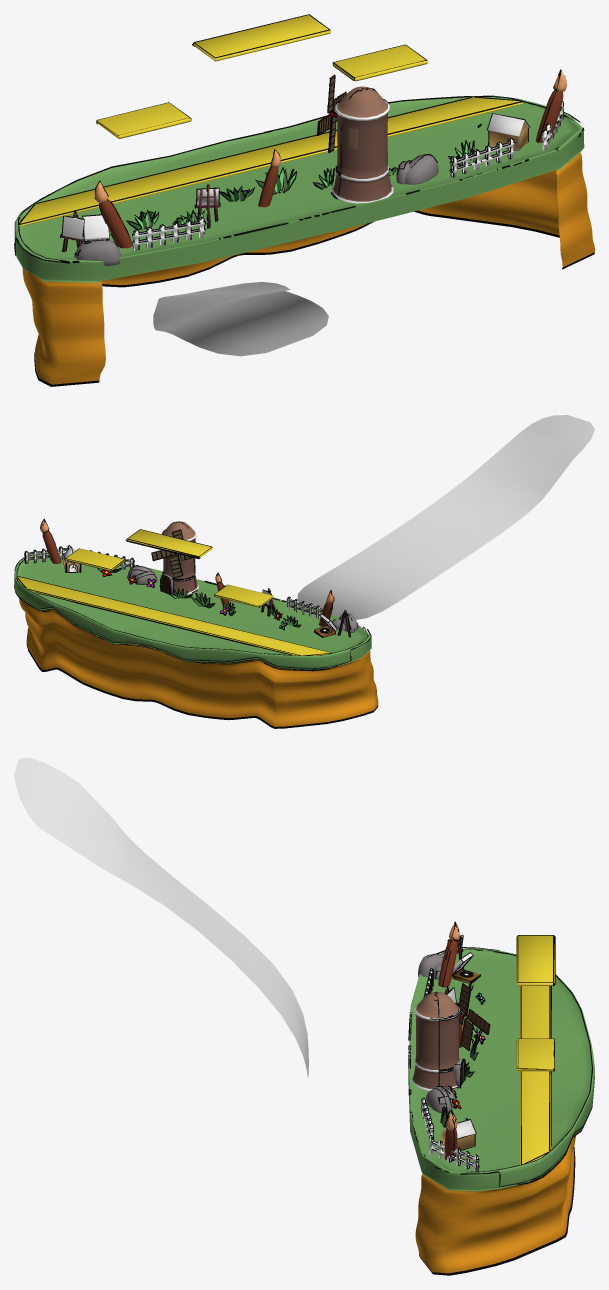
The model's file is Map1.fbx.
3 renders of one model, top to bottom at view 1: azimuth 30°, elevation 25°; view 2: azimuth 150°, elevation 25°; view 3: azimuth 270°, elevation 25°, orthographic. The views are drawn at different scales.
Visible parts, largest first — view 1: Plane.013, Plane.010, Platform, Plane.004, Cube.011, Platform.003, Platform.002, Platform.001, Plane, Plane.009, Cube.014, Plane.007 (+8 smaller); view 2: Plane.013, Plane.010, Plane.004, Platform, Cube.011, Platform.003, Platform.002, Platform.001, Cube.012; view 3: Plane.013, Plane.010, Plane.004, Platform, Cube.011, Platform.003, Platform.002, Cube.012, Plane.009.
Boxes of the visible parts, x1,y1,x2,y2 form: Plane.013: (14,96,594,384); Plane.010: (153,282,328,356); Platform: (19,96,522,225); Plane.004: (14,69,594,386); Cube.011: (331,86,393,203); Platform.003: (192,14,331,61); Platform.002: (332,44,427,81); Platform.001: (96,102,191,138); Plane: (488,113,529,150); Plane.009: (94,182,132,248); Cube.014: (75,239,121,265); Plane.007: (132,218,205,250); Plane.013: (14,552,378,726); Plane.010: (297,415,594,619); Plane.004: (14,518,378,728); Platform: (17,576,332,655); Cube.011: (161,521,198,594); Platform.003: (126,529,212,558); Platform.002: (65,548,125,571); Platform.001: (214,584,273,607); Cube.012: (151,529,192,578); Plane.013: (408,948,594,1273); Plane.010: (14,757,308,1077); Plane.004: (408,921,594,1275); Platform: (520,986,551,1164); Cube.011: (412,992,464,1091); Platform.003: (516,935,555,985); Platform.002: (516,1038,554,1071); Cube.012: (458,983,490,1050); Plane.009: (438,924,459,986).
Size of the model in its own units: 1679 by 741 by 1521.
